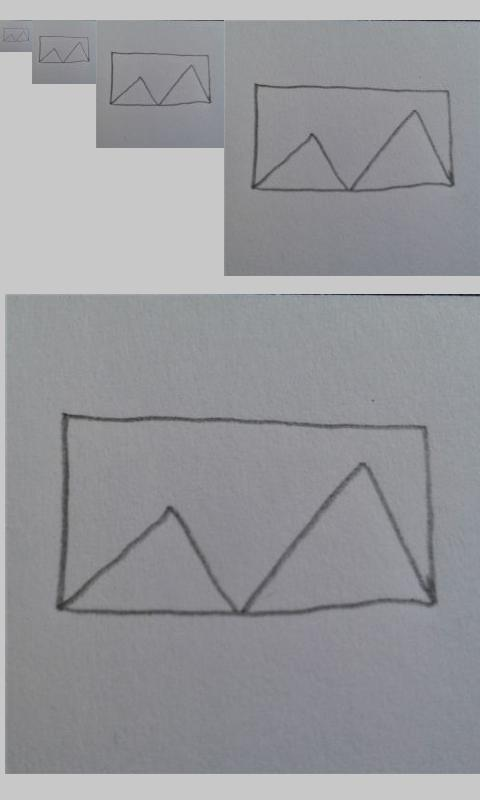image_view: (57, 408, 442, 622), (251, 80, 461, 198), (110, 51, 211, 107), (38, 35, 91, 64), (2, 27, 30, 43)
